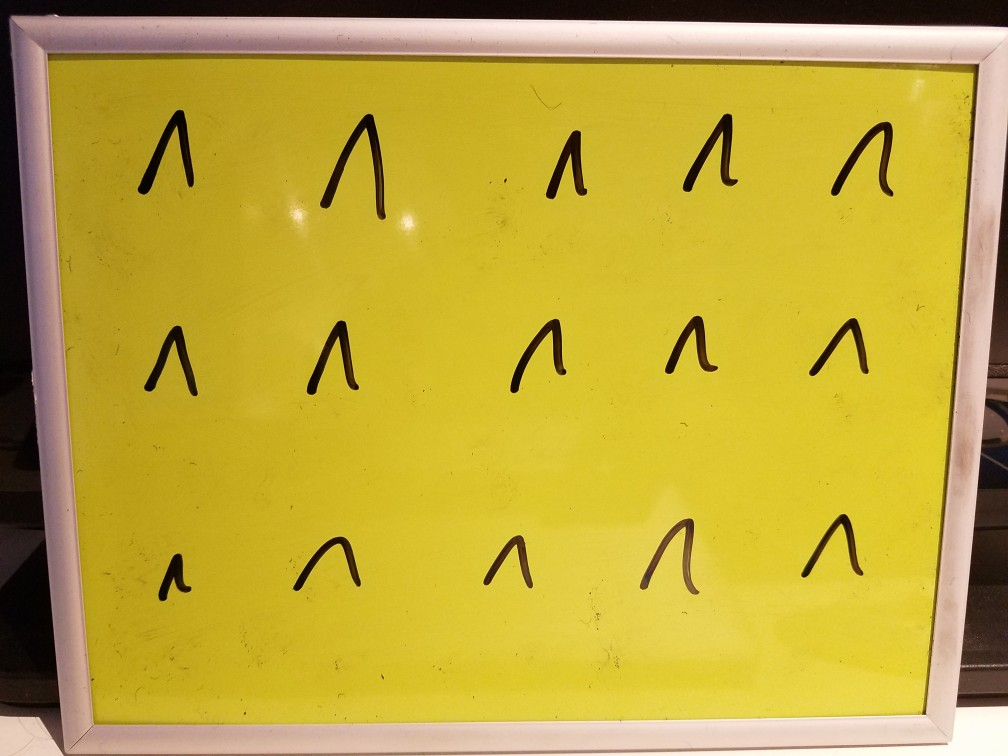^: (293, 93, 423, 230), (113, 97, 223, 223), (813, 106, 910, 204), (626, 509, 717, 610), (523, 123, 616, 213), (786, 504, 876, 597), (671, 103, 752, 200), (651, 305, 735, 394), (495, 307, 575, 397), (466, 521, 550, 599), (285, 529, 371, 605), (298, 318, 373, 395), (806, 312, 882, 387), (142, 315, 200, 401), (147, 539, 193, 610)
